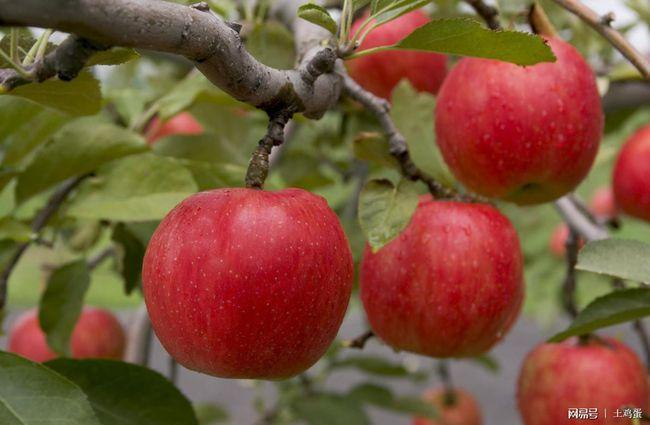apple: (145, 189, 360, 382), (435, 30, 603, 204), (358, 195, 527, 354), (517, 336, 650, 425), (7, 302, 128, 364), (609, 124, 650, 224)
